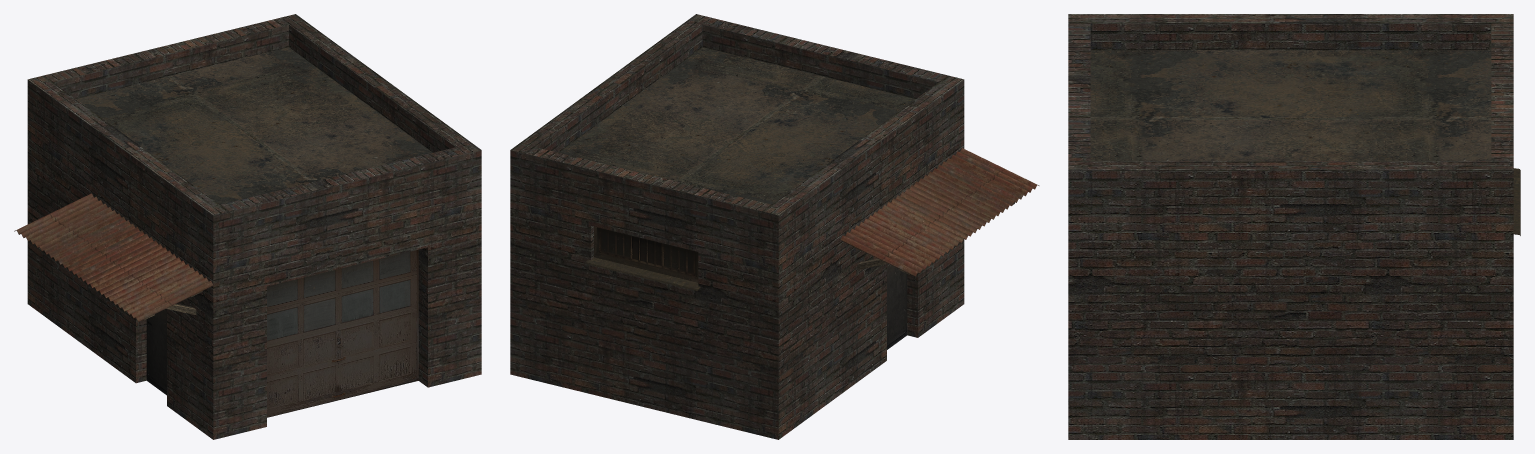
Rendered from garage_hm_1.dae.
The picture shows the model from 3 angles, left to right: view 1: azimuth 30°, elevation 25°; view 2: azimuth 150°, elevation 25°; view 3: azimuth 270°, elevation 25°; orthographic projection. The views are drawn at different scales.
Parts seen in each view (by area): view 1: garage_hm_1; view 2: garage_hm_1; view 3: garage_hm_1.
Part boxes in pixels (left/top/right/bottom): garage_hm_1: left=14, top=14, right=481, bottom=439; garage_hm_1: left=510, top=14, right=1039, bottom=439; garage_hm_1: left=1068, top=14, right=1520, bottom=439.
Size of the model in its own units: 6.4 by 6.1 by 4.
Materials: 9 (9 with a texture image).
